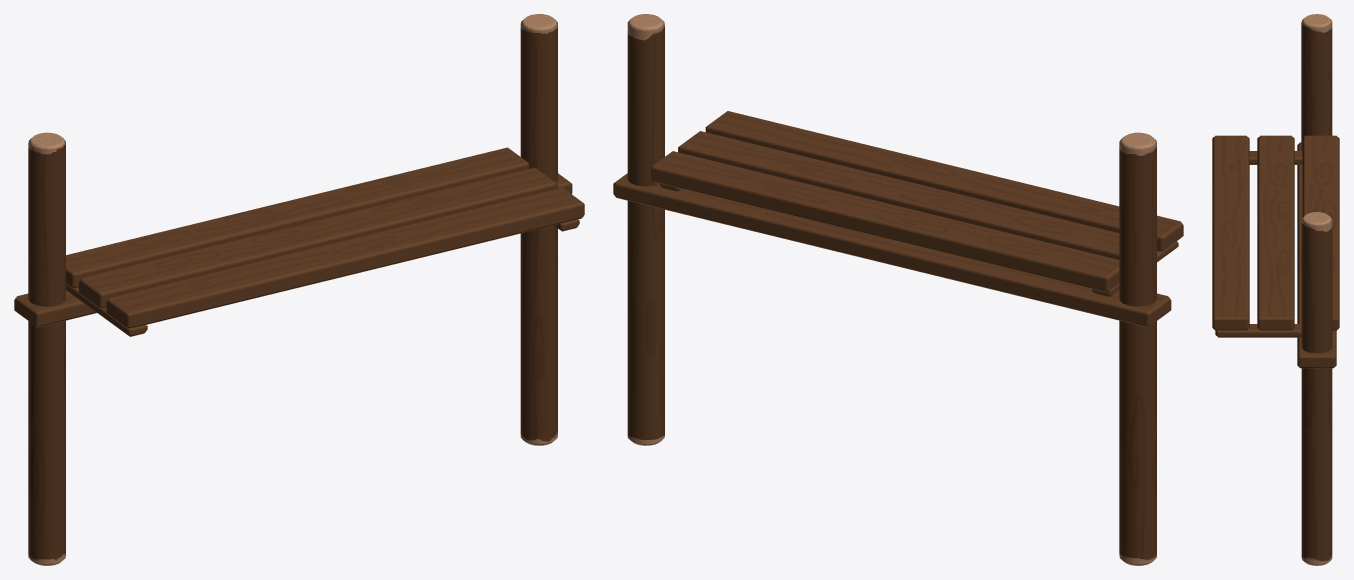
File: M_Wide_High_Cap.fbx
The picture shows the model from 3 angles, left to right: view 1: azimuth 30°, elevation 25°; view 2: azimuth 150°, elevation 25°; view 3: azimuth 270°, elevation 25°; orthographic projection. The views are drawn at different scales.
Visible parts, largest first — view 1: M_Wide_High_Cap; view 2: M_Wide_High_Cap; view 3: M_Wide_High_Cap.
Part boxes in pixels (x1,y1,x2,y2): M_Wide_High_Cap: (14, 14, 584, 565); M_Wide_High_Cap: (613, 14, 1183, 565); M_Wide_High_Cap: (1212, 14, 1339, 565).
Bounding box in the file's own units: 820 × 613 × 205.
